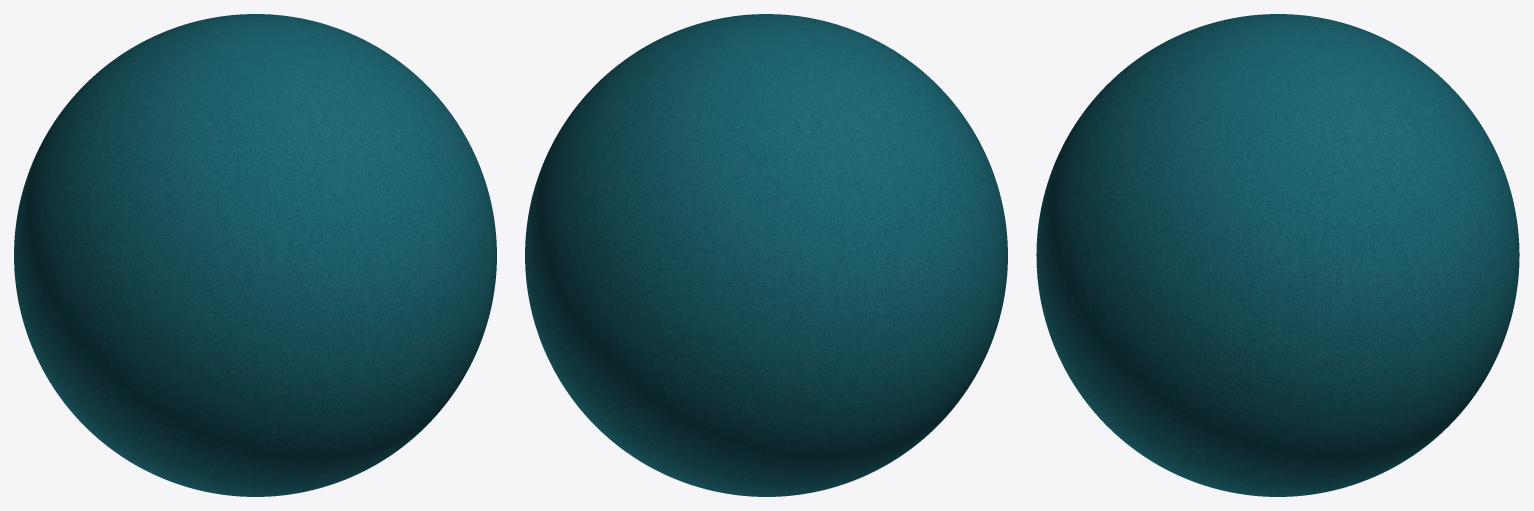
File: scuba_suede_1k.gltf
3 renders of one model, left to right at view 1: azimuth 30°, elevation 25°; view 2: azimuth 150°, elevation 25°; view 3: azimuth 270°, elevation 25°, orthographic.
Visible parts, largest first — view 1: sphere_gltf; view 2: sphere_gltf; view 3: sphere_gltf.
Boxes of the visible parts, <box> form: sphere_gltf: <box>14,14,496,496</box>; sphere_gltf: <box>525,14,1007,496</box>; sphere_gltf: <box>1036,14,1519,496</box>.
Size of the model in its own units: 0.2789 by 0.2789 by 0.2789.
1 material, 1 textured.
